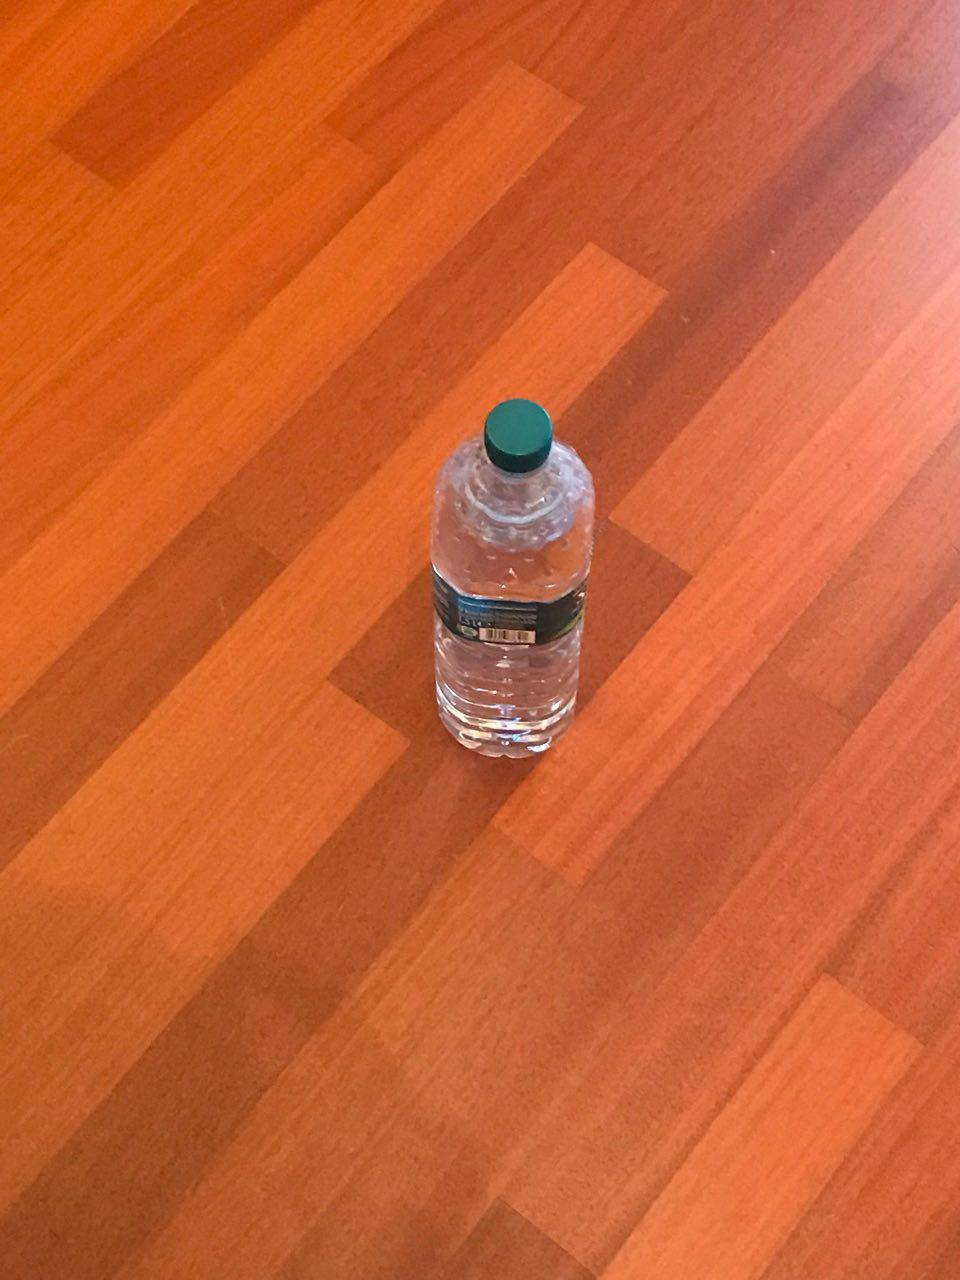san_bernardo: (428, 398, 596, 761)
